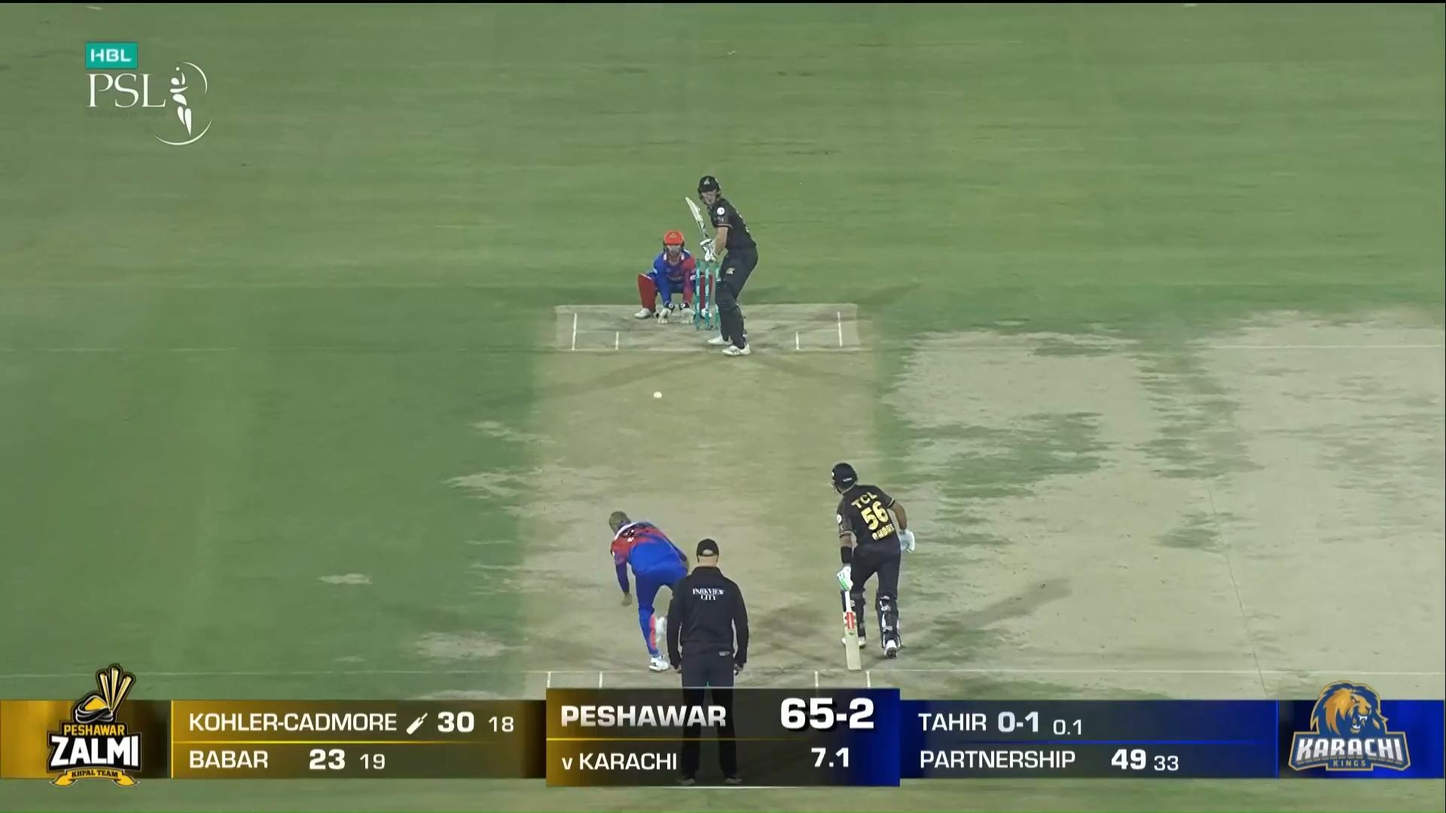batsman: (685, 175, 758, 357)
